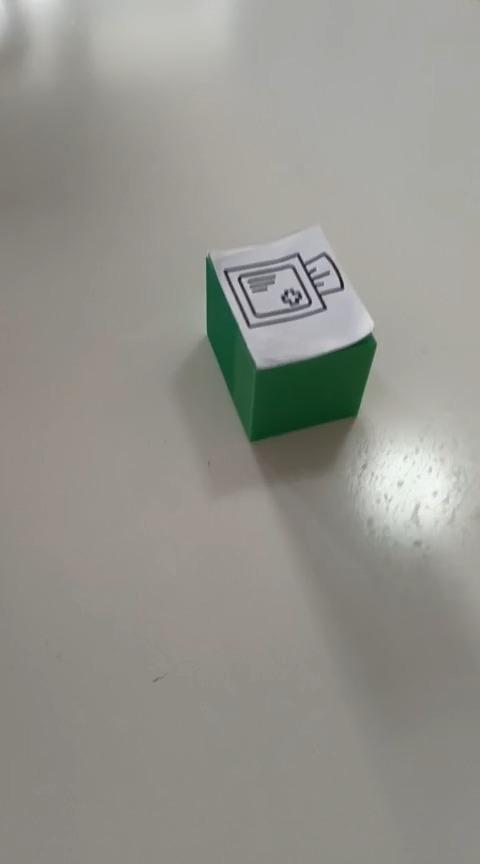Gauze: (203, 222, 377, 443)
